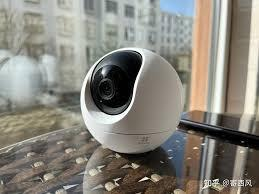maru: (76, 44, 183, 151)
